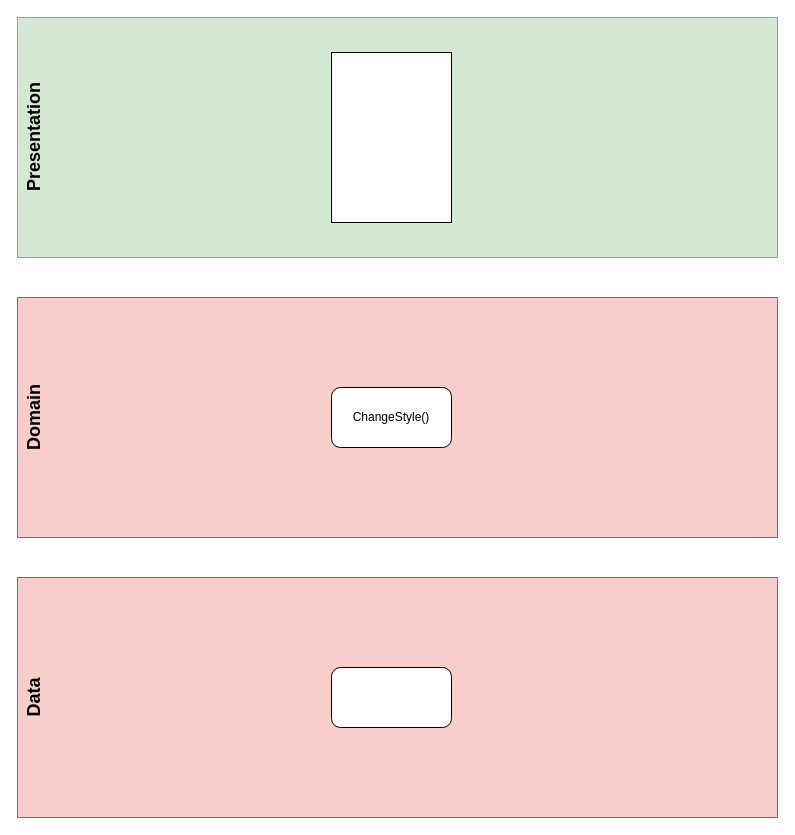
The diagram is 795 pixels wide and 835 high, and some of its shapes have lost their labels. Here are the shapes that lost their labels. From the top down, the centre of each, then its label:
At (391,137): "MainActivity".
At (391,697): "UserPreferences".
